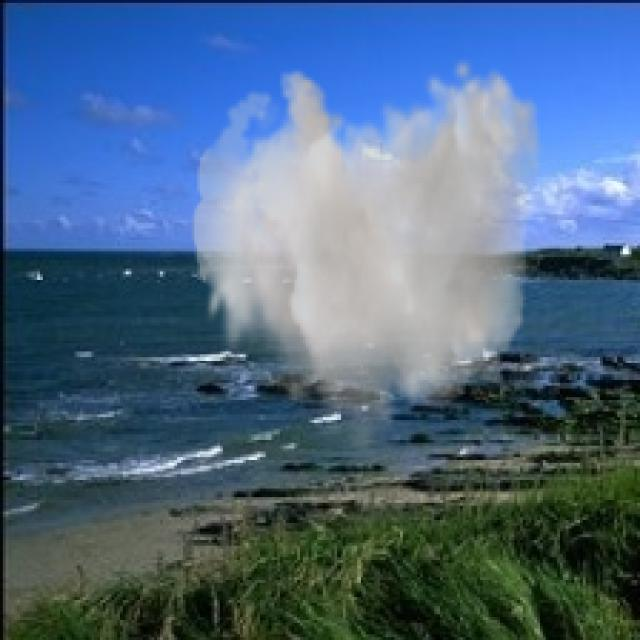smoke: (191, 54, 543, 460)
